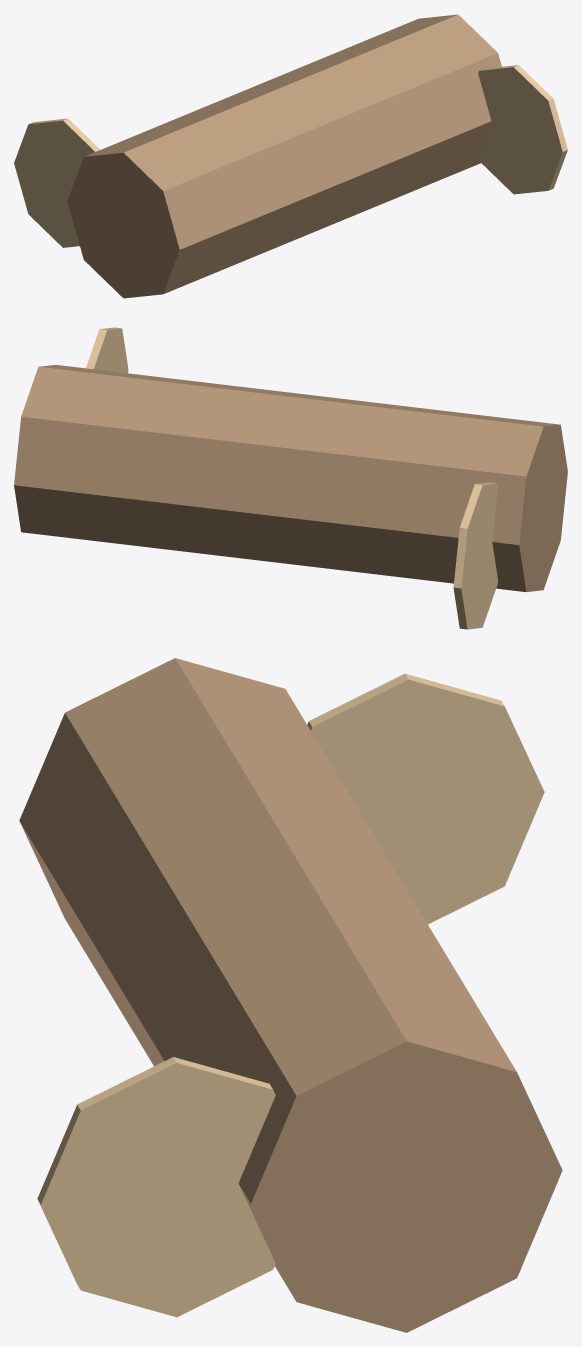
File: log.glb
3 views of the same model, one above another, from view 1: azimuth 30°, elevation 25°; view 2: azimuth 150°, elevation 25°; view 3: azimuth 270°, elevation 25° (orthographic). The views are drawn at different scales.
Visible parts, largest first — view 1: log; view 2: log; view 3: log.
Part boxes in pixels (<box>): log: <box>14,14,567,298</box>; log: <box>14,327,567,629</box>; log: <box>19,658,562,1332</box>.
Size of the model in its own units: 3.39 by 1.1 by 1.86.
